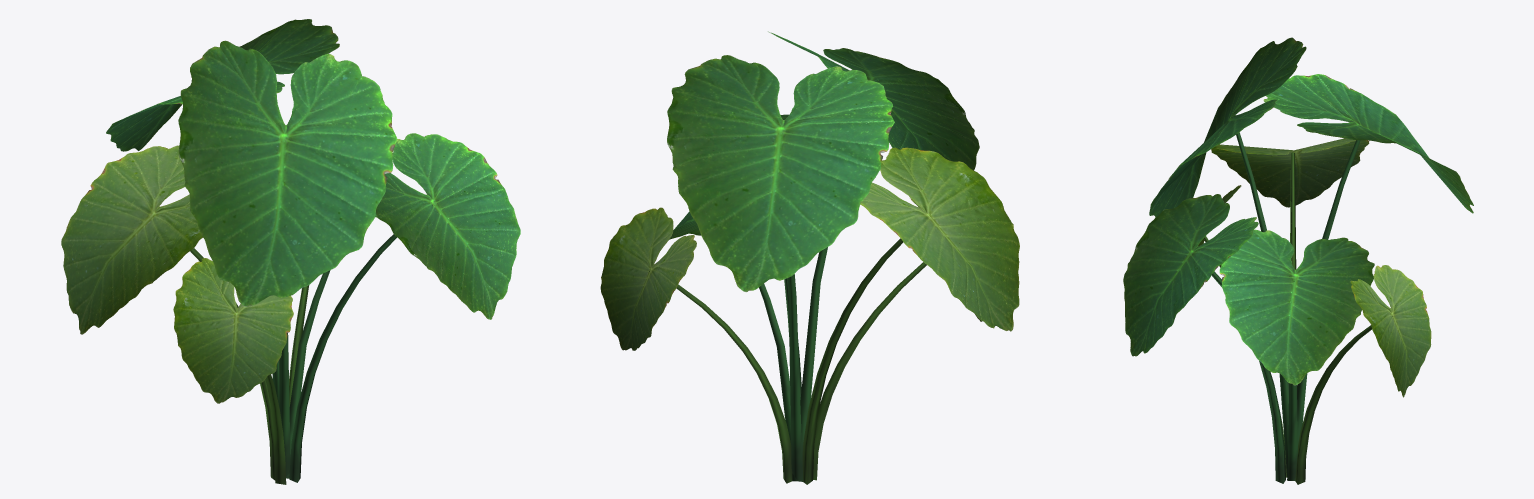
The model's file is alocasia1.FBX.
The picture shows the model from 3 angles, left to right: view 1: azimuth 30°, elevation 25°; view 2: azimuth 150°, elevation 25°; view 3: azimuth 270°, elevation 25°; orthographic projection. The views are drawn at different scales.
Parts seen in each view (by area): view 1: alocasia1; view 2: alocasia1; view 3: alocasia1.
Boxes of the visible parts, x1,y1,x2,y2 form: alocasia1: (61,19,520,484); alocasia1: (600,31,1019,484); alocasia1: (1123,37,1473,484).
Size of the model in its own units: 21.4 by 22.6 by 20.64.
